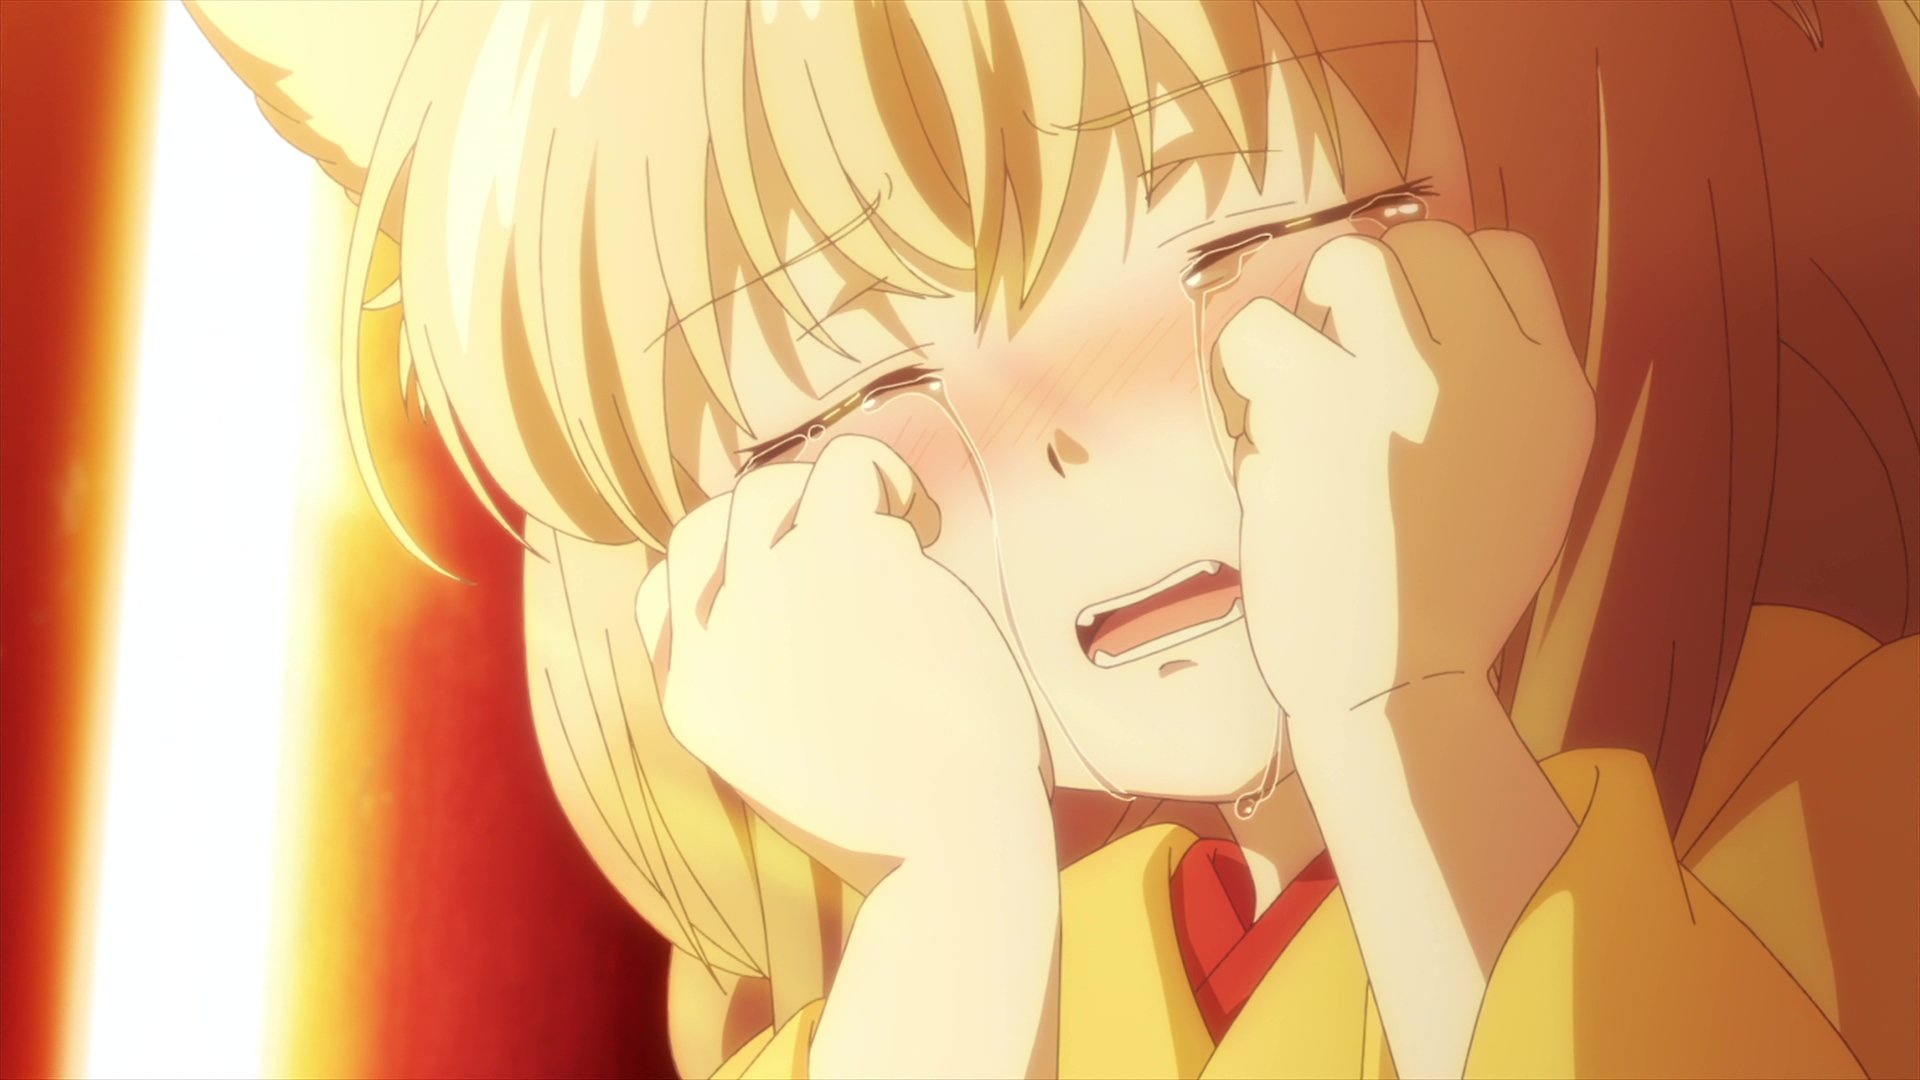柚: (182, 1, 1920, 1080)
